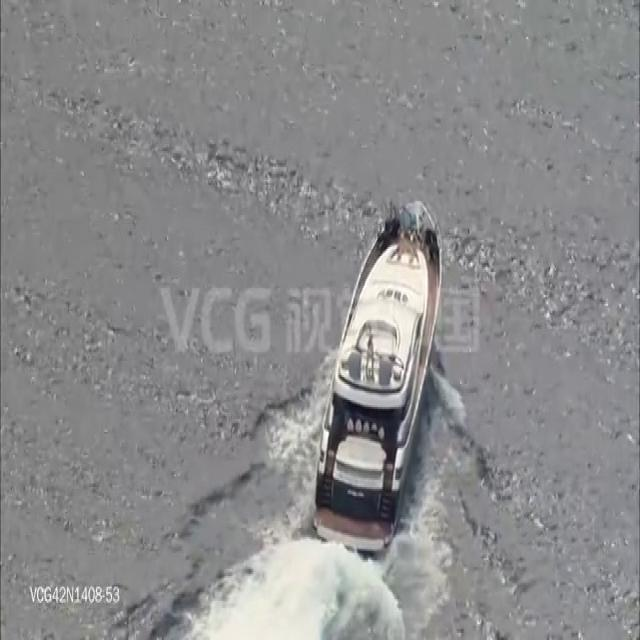houseboat: (313, 190, 446, 558)
